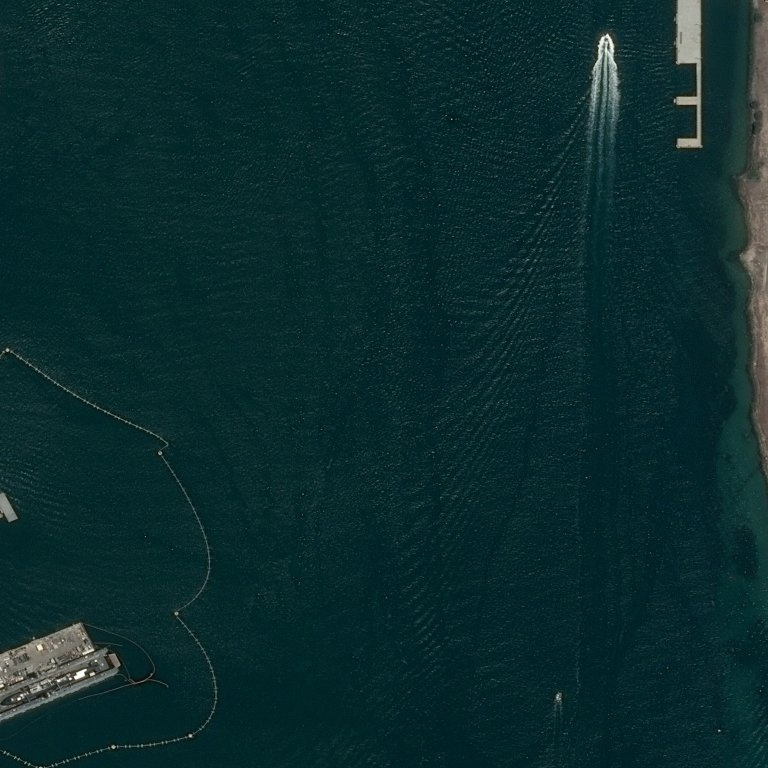ship: (598, 33, 613, 51)
